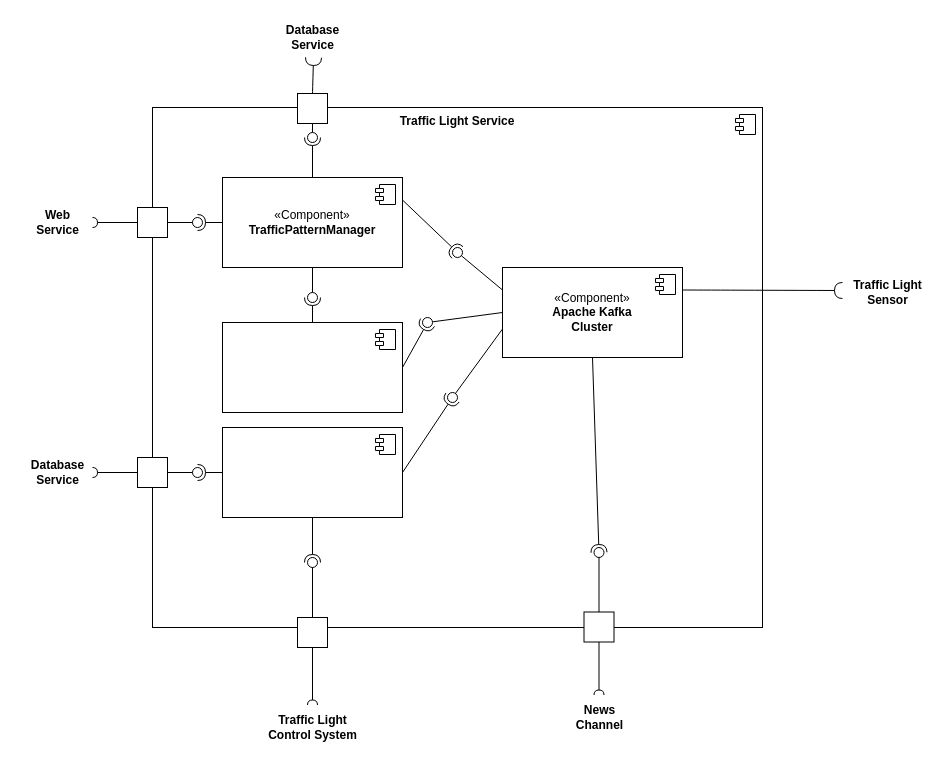
This 949x764 diagram has some shape labels left out. Each missing label, with the centre of its shape:
"«Component» EventManager" goes at pixel 312 367.
"«Component» TrafficLightManager" goes at pixel 312 472.
